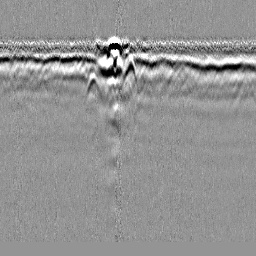cavity: (122, 53, 139, 92)
